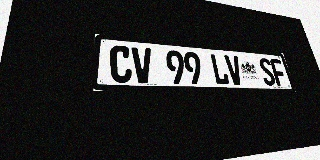9: (165, 50, 187, 84), (183, 51, 204, 84)
C: (110, 45, 132, 83)
F: (269, 59, 288, 86)
L: (209, 54, 230, 85)
S: (257, 58, 277, 86)
V: (131, 47, 153, 83), (224, 55, 244, 85)
